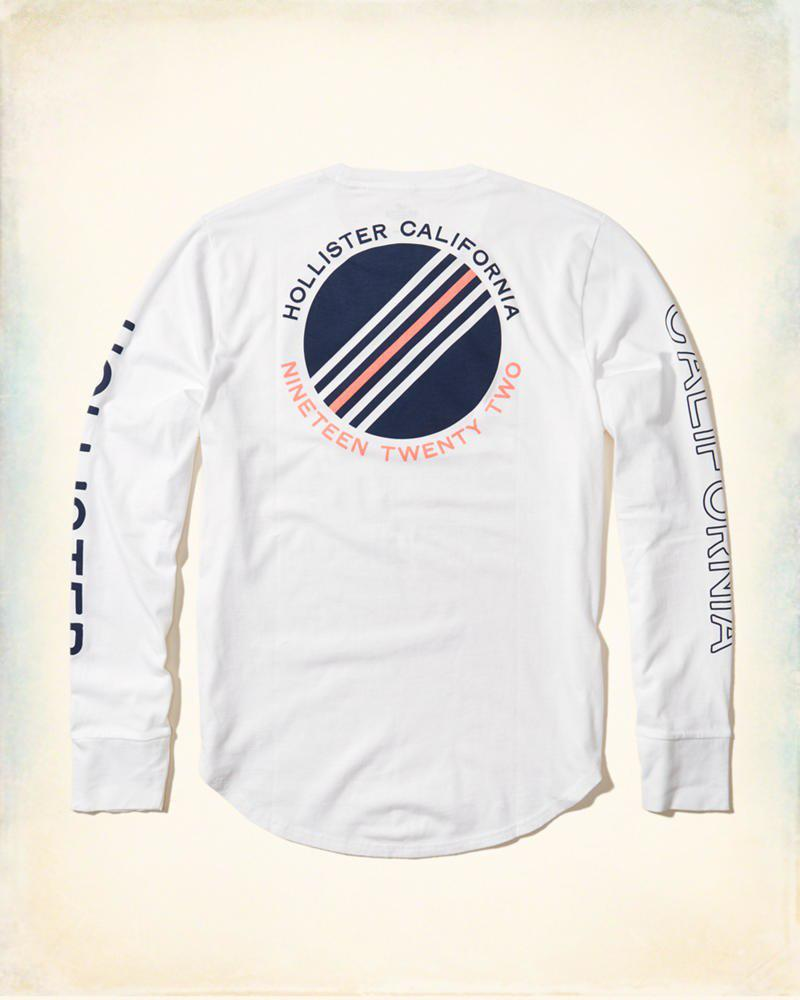teeshirt: (15, 153, 777, 940)
